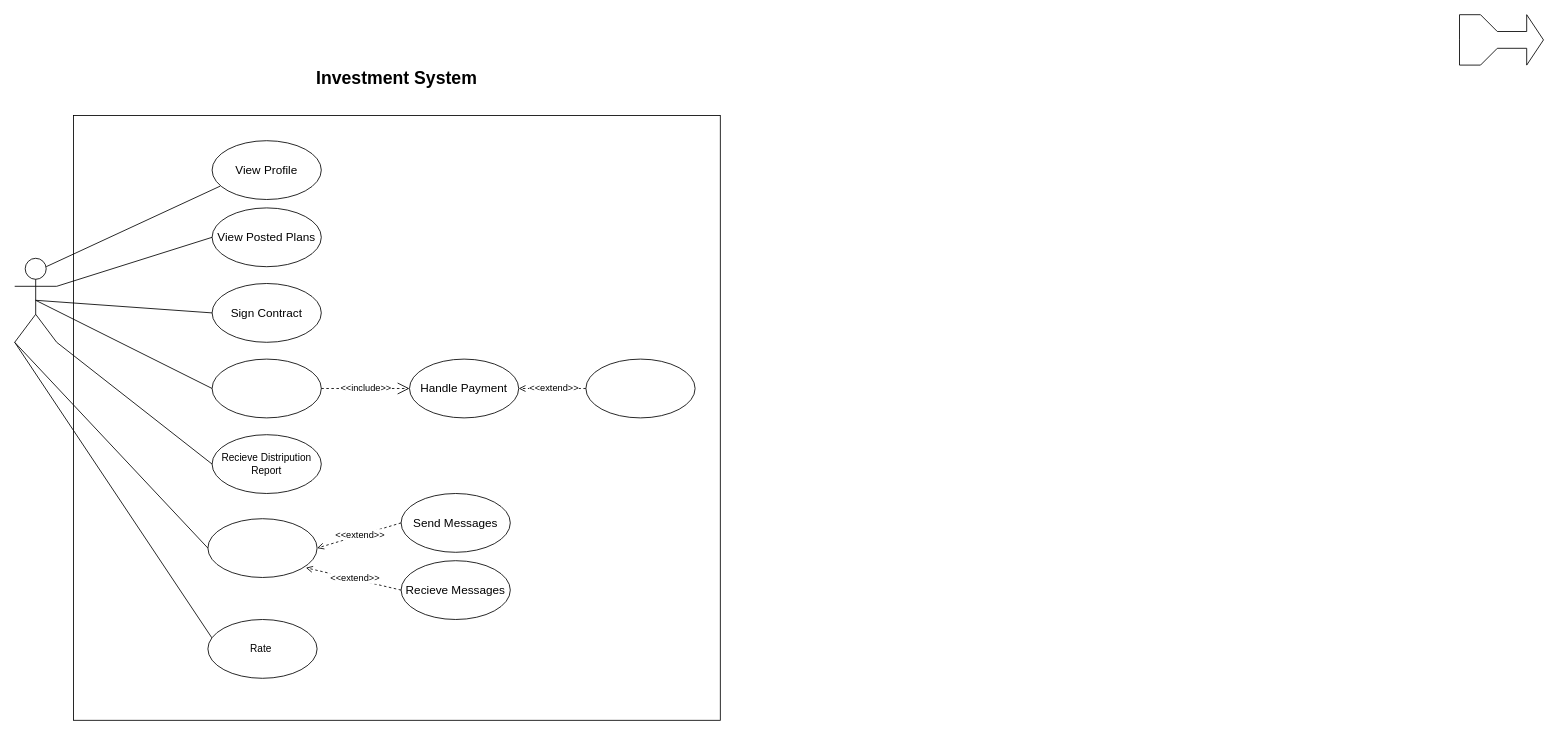
Some shapes in this 1558 by 735 pixel diagram are drawn without their labels. The centre of each missing label's shape, as x and y in pixels:
"Chat With Admin" belongs at point 262,548.
"Confirm Payment" belongs at point 640,388.
"Investor" belongs at point 35,299.
"Make Payment" belongs at point 266,388.
